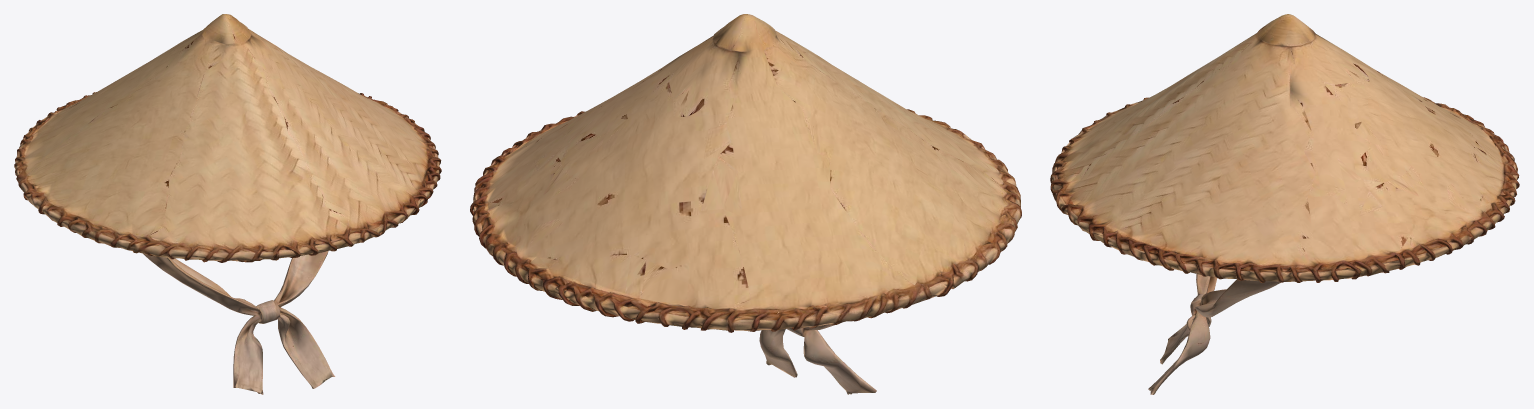
Rendered from hat.glb.
3 views of the same model, side by side, from view 1: azimuth 30°, elevation 25°; view 2: azimuth 150°, elevation 25°; view 3: azimuth 270°, elevation 25° (orthographic). The views are drawn at different scales.
Visible parts, largest first — view 1: Mesh; view 2: Mesh; view 3: Mesh.
Part boxes in pixels (x1,y1,x2,y2): Mesh: (14,14,441,394); Mesh: (470,14,1021,394); Mesh: (1050,14,1519,394).
Bounding box in the file's own units: 0.9869 × 0.852 × 1.
1 material, 1 textured.
